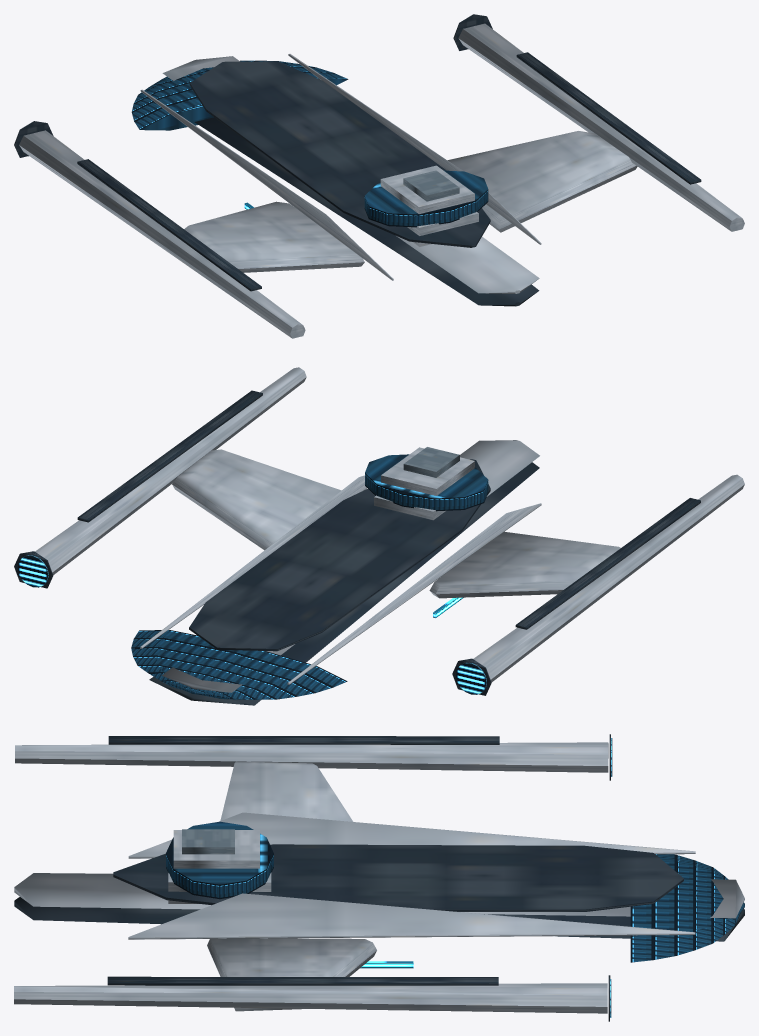
The model's file is alliance_cruiser_recreated_lod2.glb.
3 renders of one model, top to bottom at view 1: azimuth 30°, elevation 25°; view 2: azimuth 150°, elevation 25°; view 3: azimuth 270°, elevation 25°, orthographic. The views are drawn at different scales.
Parts seen in each view (by area): view 1: alliance_cruiser_far_source; view 2: alliance_cruiser_far_source; view 3: alliance_cruiser_far_source.
Boxes of the visible parts, x1,y1,x2,y2 form: alliance_cruiser_far_source: [14, 14, 744, 338]; alliance_cruiser_far_source: [14, 367, 744, 705]; alliance_cruiser_far_source: [14, 734, 744, 1021].
Size of the model in its own units: 1.61 by 0.2273 by 1.9.
1 material, 1 textured.
